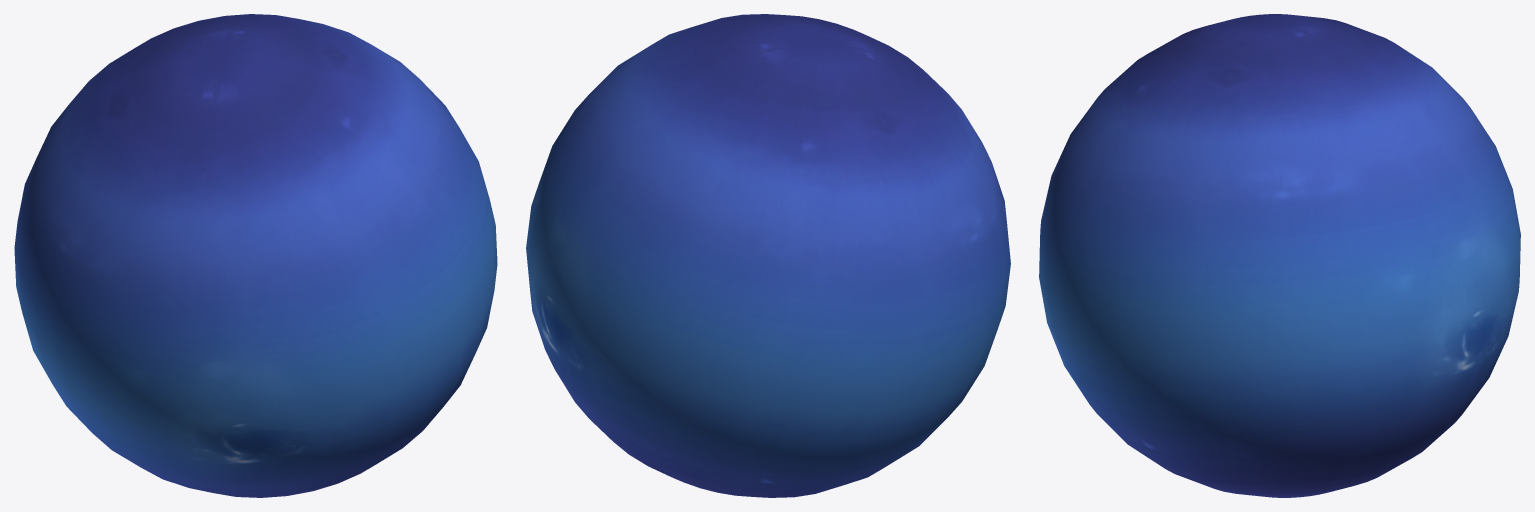
The model's file is neptune.fbx.
3 renders of one model, left to right at view 1: azimuth 30°, elevation 25°; view 2: azimuth 150°, elevation 25°; view 3: azimuth 270°, elevation 25°, orthographic.
Parts seen in each view (by area): view 1: neptune; view 2: neptune; view 3: neptune.
Boxes of the visible parts, bbox=[...] form: neptune: bbox=[14, 14, 497, 497]; neptune: bbox=[526, 14, 1010, 497]; neptune: bbox=[1039, 14, 1520, 497].
Bounding box in the file's own units: 13.72 × 13.77 × 13.7.
Materials: 1 (1 with a texture image).
